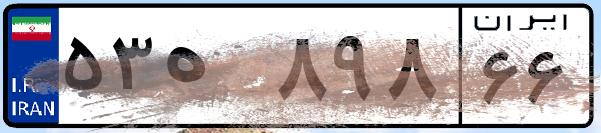3: (110, 28, 158, 98)
5: (57, 26, 110, 100)
6: (475, 38, 525, 113), (525, 38, 570, 115)
8: (270, 28, 330, 110), (385, 28, 445, 110)
9: (330, 28, 385, 110)
ه: (158, 20, 270, 120)
